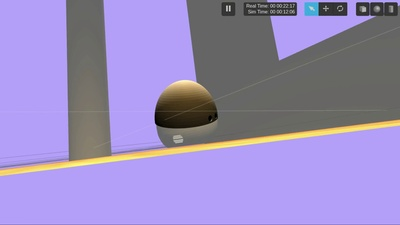mira_robot: (155, 79, 218, 147)
